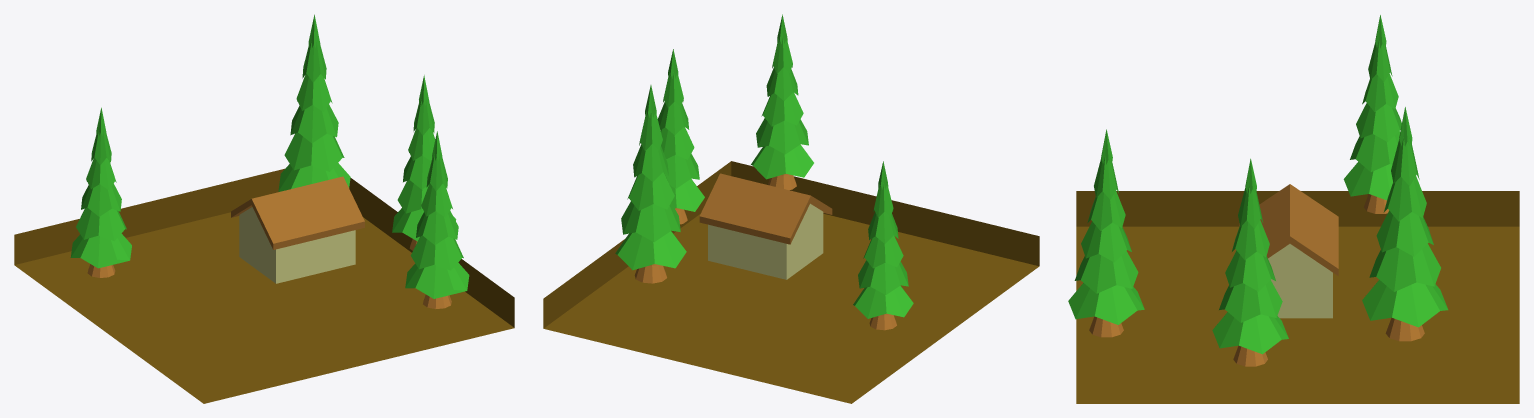
File: walking.gltf
3 renders of one model, left to right at view 1: azimuth 30°, elevation 25°; view 2: azimuth 150°, elevation 25°; view 3: azimuth 270°, elevation 25°, orthographic. The views are drawn at different scales.
Visible parts, largest first — view 1: Cube.001, Cube, Cylinder, Cylinder.001, Cylinder.002, Cylinder.003; view 2: Cube.001, Cube, Cylinder, Cylinder.001, Cylinder.002, Cylinder.003; view 3: Cube.001, Cylinder, Cube, Cylinder.001, Cylinder.003, Cylinder.002.
Boxes of the visible parts, box(x1,y1,x2,y2) form: Cube.001: box(14, 168, 514, 403); Cube: box(231, 176, 364, 283); Cylinder: box(278, 14, 350, 191); Cylinder.001: box(405, 131, 469, 308); Cylinder.002: box(70, 107, 131, 277); Cylinder.003: box(392, 75, 456, 250); Cube.001: box(543, 161, 1039, 403); Cube: box(699, 173, 832, 279); Cylinder: box(615, 85, 686, 283); Cylinder.001: box(751, 14, 813, 190); Cylinder.002: box(853, 161, 913, 330); Cylinder.003: box(657, 49, 704, 224); Cube.001: box(1076, 191, 1519, 403); Cylinder: box(1362, 107, 1448, 341); Cube: box(1239, 184, 1338, 318); Cylinder.001: box(1068, 129, 1144, 337); Cylinder.003: box(1212, 158, 1288, 366); Cylinder.002: box(1343, 15, 1401, 213).
Size of the model in its own units: 22.14 by 14.83 by 23.
